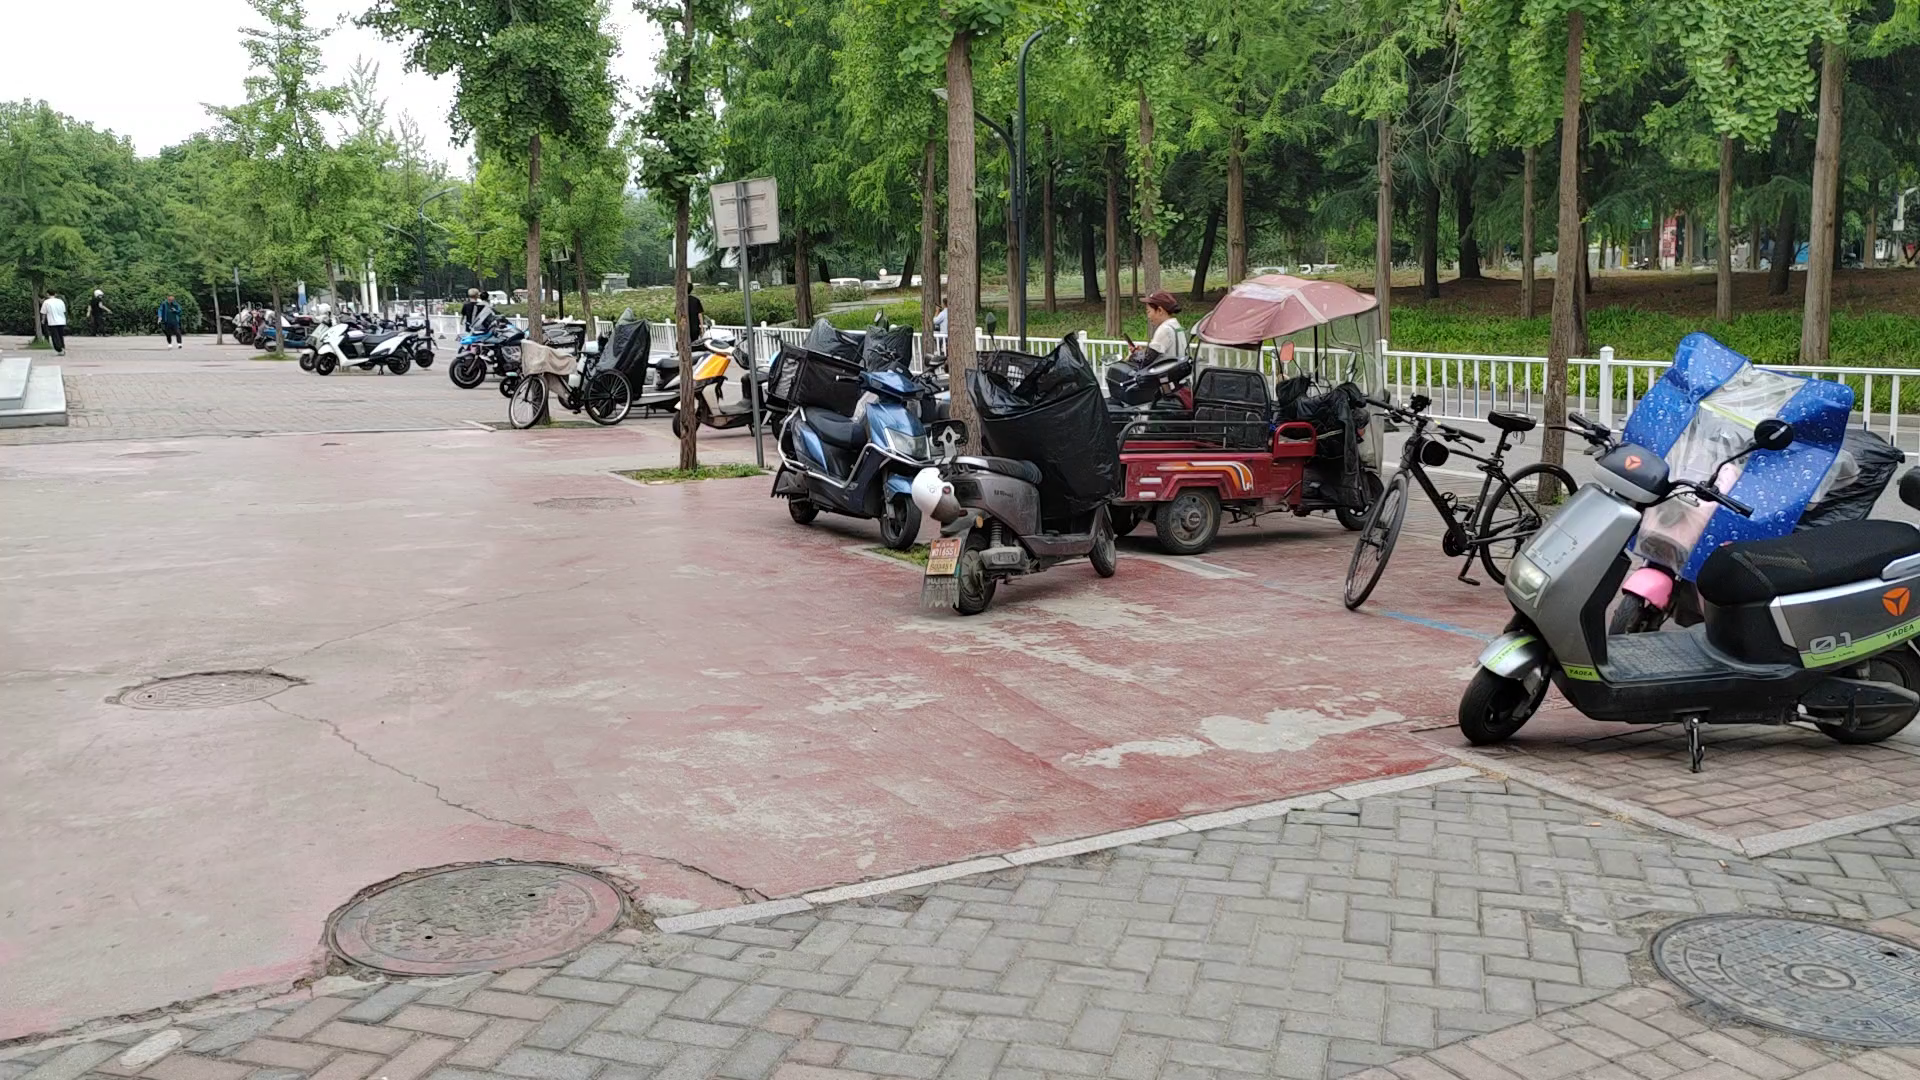others: (1526, 392, 1908, 799), (1327, 371, 1557, 615), (916, 407, 1149, 649), (764, 372, 930, 527), (504, 316, 649, 471), (673, 314, 802, 458), (439, 309, 553, 419), (310, 305, 421, 384)
